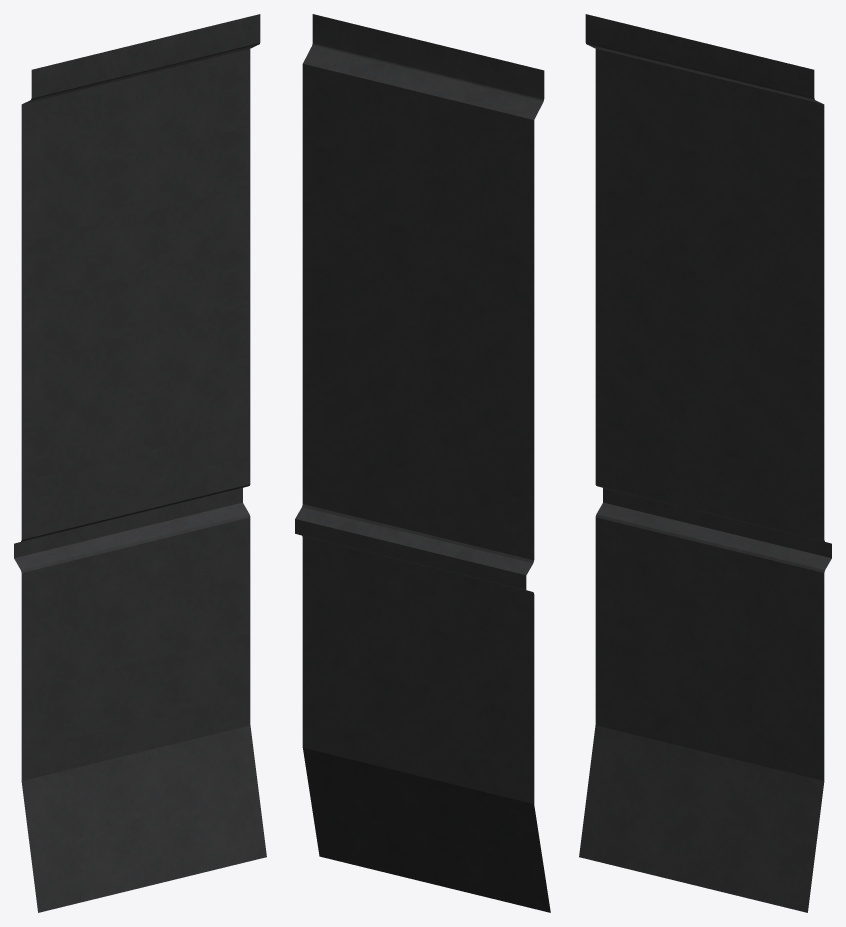
The model's file is M_Wall_Straight_4x14_v2.fbx.
3 views of the same model, side by side, from view 1: azimuth 30°, elevation 25°; view 2: azimuth 150°, elevation 25°; view 3: azimuth 330°, elevation 25° (orthographic).
Parts seen in each view (by area): view 1: Wall_Straight_4x14_v2; view 2: Wall_Straight_4x14_v2; view 3: Wall_Straight_4x14_v2.
Boxes of the visible parts, x1,y1,x2,y2 form: Wall_Straight_4x14_v2: (14, 14, 266, 912); Wall_Straight_4x14_v2: (295, 14, 550, 912); Wall_Straight_4x14_v2: (579, 14, 831, 912).
Bounding box in the file's own units: 400 × 1400 × 73.02.
